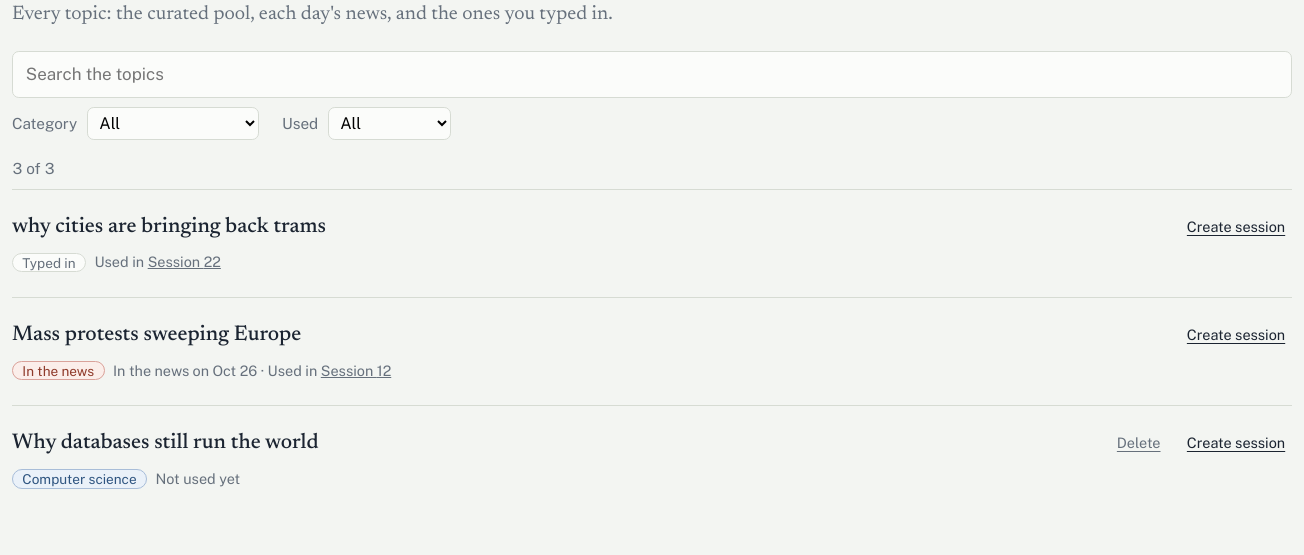
Test: deletes a topic after a confirm
Expected: the heading "Why databases still run the world" is shown, x1=12 y1=432 x2=318 y2=454
What coordinates should you click on to do the following:
click the button with aria-label "Delete Why databases still run the world"
I would click on:
 (1139, 443)
Its box is x1=1110 y1=427 x2=1167 y2=459.
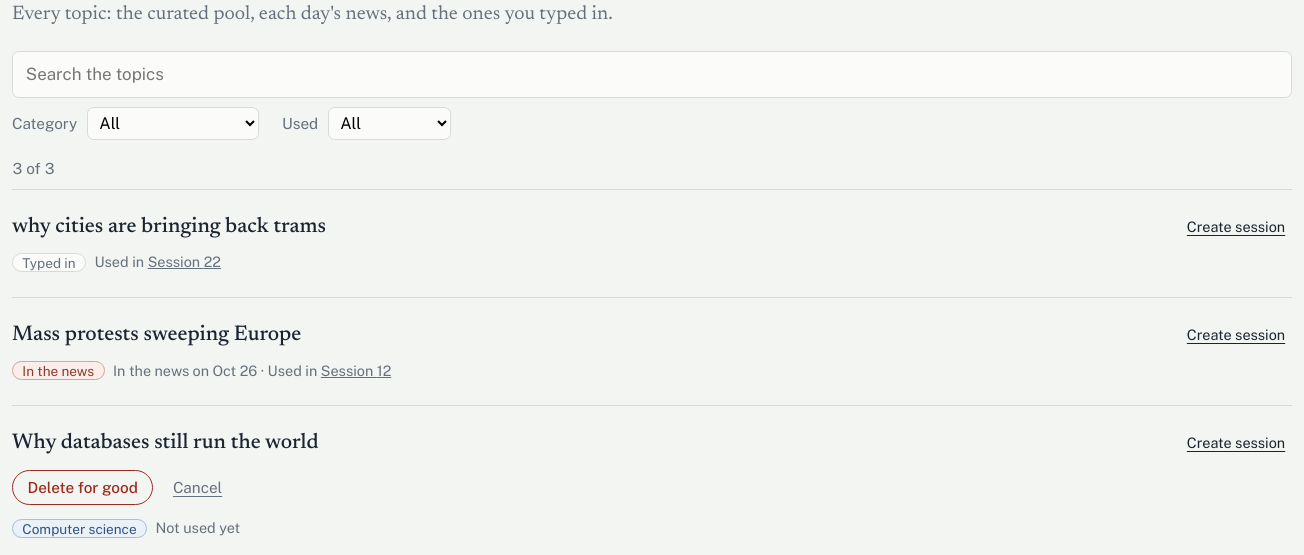
What coordinates should you click on to do the following:
click the button "Delete for good"
I would click on:
 (83, 488)
Its box is x1=12 y1=470 x2=153 y2=505.
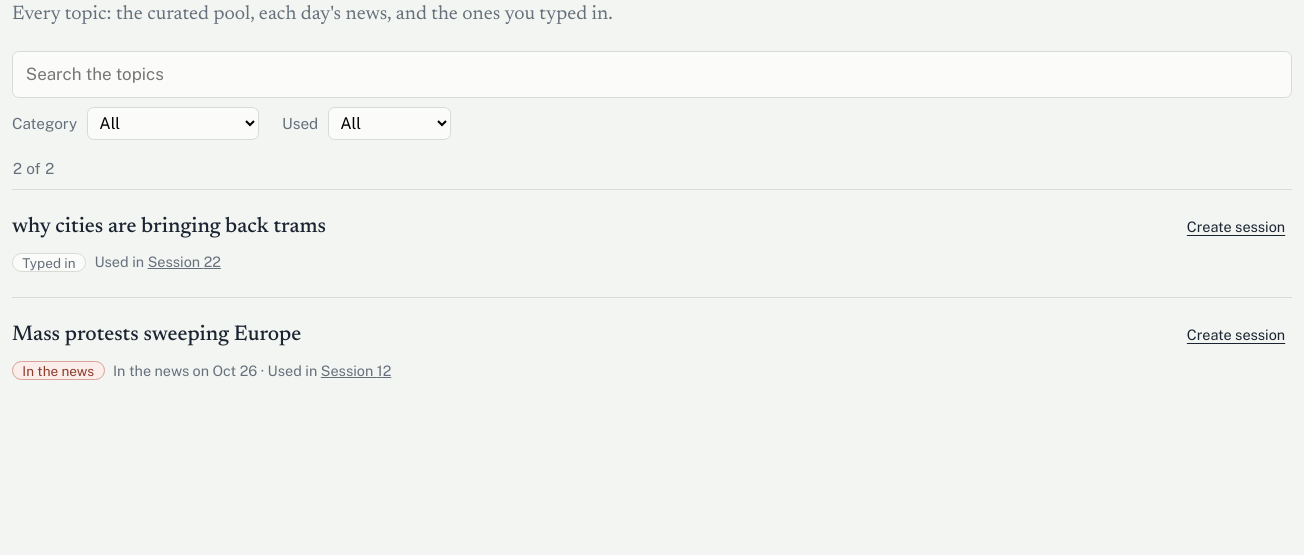
Now the text "2 of 2" is shown, box x1=12 y1=159 x2=55 y2=177
